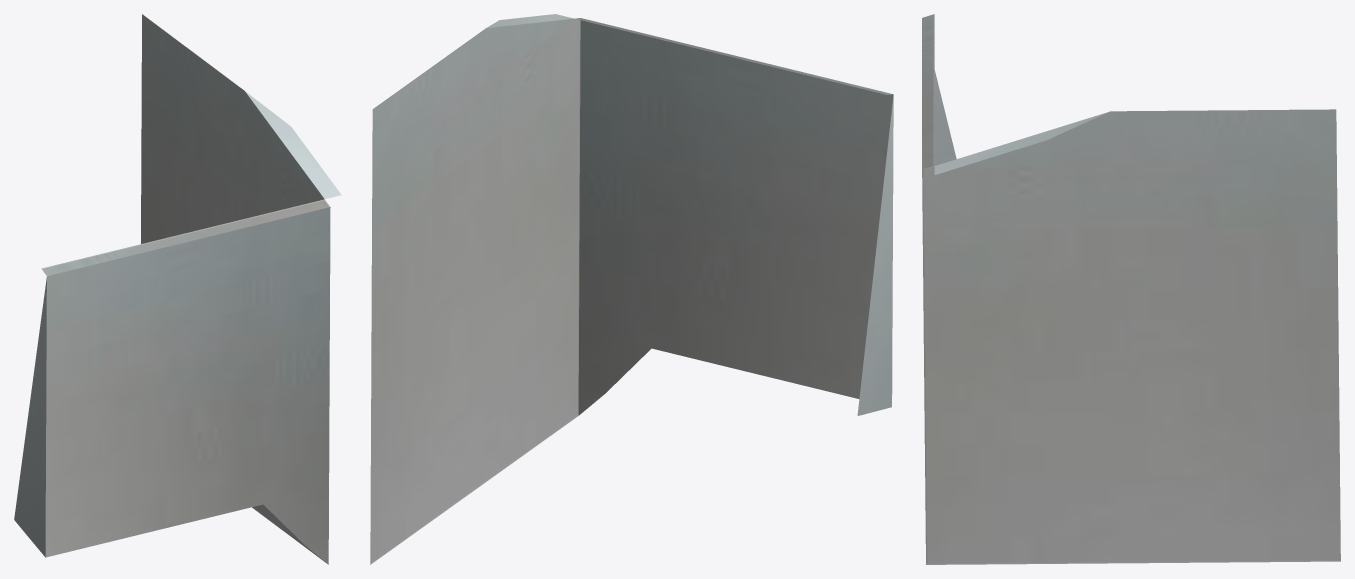
File: Helicopter__left_window.obj
3 views of the same model, side by side, from view 1: azimuth 30°, elevation 25°; view 2: azimuth 150°, elevation 25°; view 3: azimuth 270°, elevation 25° (orthographic). The views are drawn at different scales.
Parts seen in each view (by area): view 1: GeamDrept_Elicopter_Complet.004; view 2: GeamDrept_Elicopter_Complet.004; view 3: GeamDrept_Elicopter_Complet.004.
Part boxes in pixels (x1,y1,x2,y2): GeamDrept_Elicopter_Complet.004: (14, 14, 341, 564); GeamDrept_Elicopter_Complet.004: (370, 14, 893, 564); GeamDrept_Elicopter_Complet.004: (922, 14, 1340, 564).
Size of the model in its own units: 1.09 by 1.44 by 1.2.
